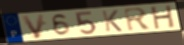5: (74, 10, 99, 35)
6: (50, 13, 72, 36)
H: (150, 4, 177, 30)
K: (101, 9, 124, 33)
R: (122, 7, 154, 33)
V: (20, 13, 46, 40)
